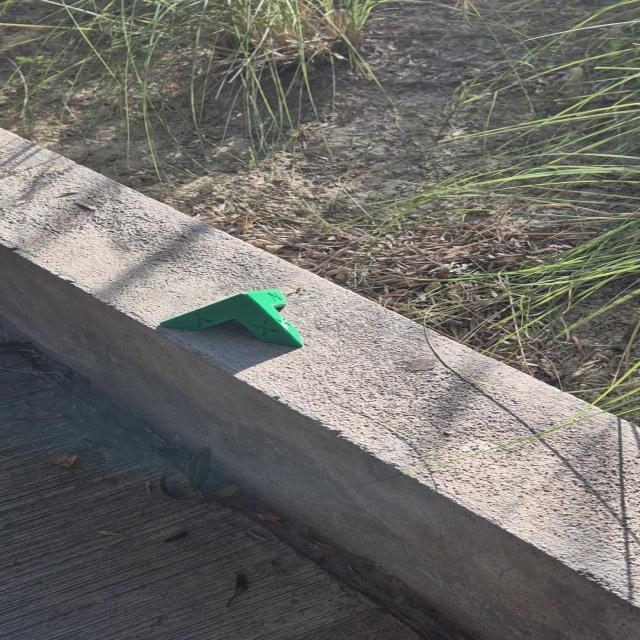objects: (157, 288, 307, 349)
